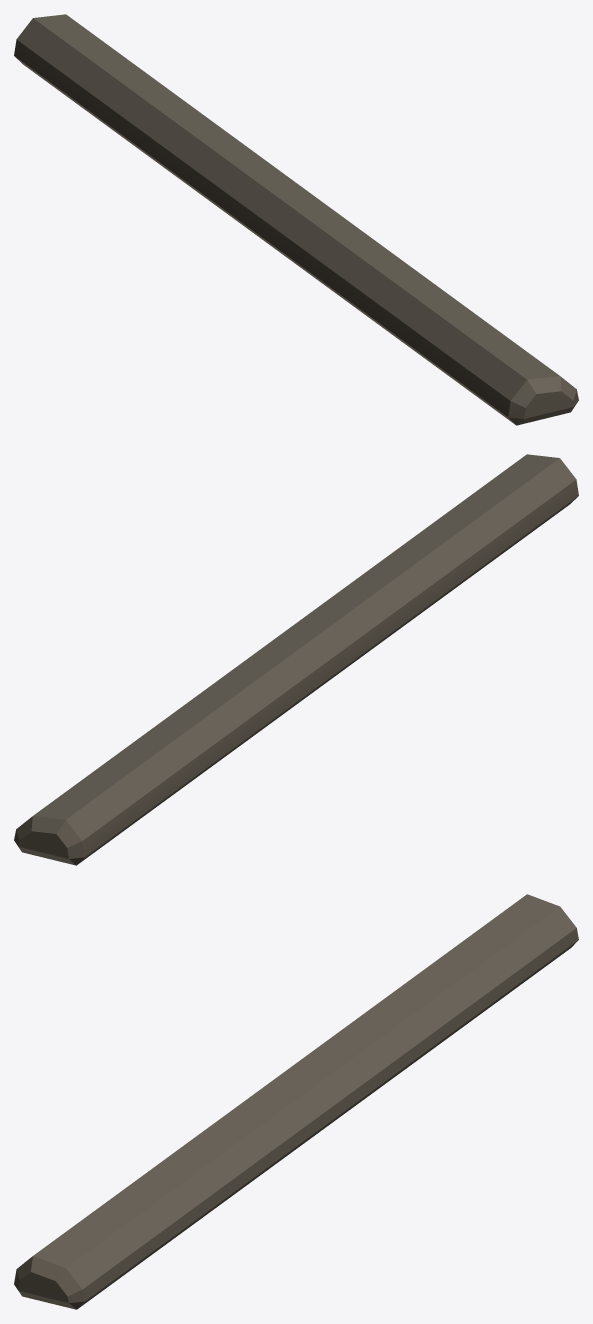
The model's file is fence_rail.glb.
3 views of the same model, one above another, from view 1: azimuth 30°, elevation 25°; view 2: azimuth 150°, elevation 25°; view 3: azimuth 330°, elevation 25° (orthographic).
Visible parts, largest first — view 1: wood-001; view 2: wood-001; view 3: wood-001.
Part boxes in pixels (<box>): wood-001: <box>14,14,578,425</box>; wood-001: <box>14,454,578,865</box>; wood-001: <box>14,894,578,1309</box>.
Size of the model in its own units: 0.0857 by 0.05 by 1.06.
